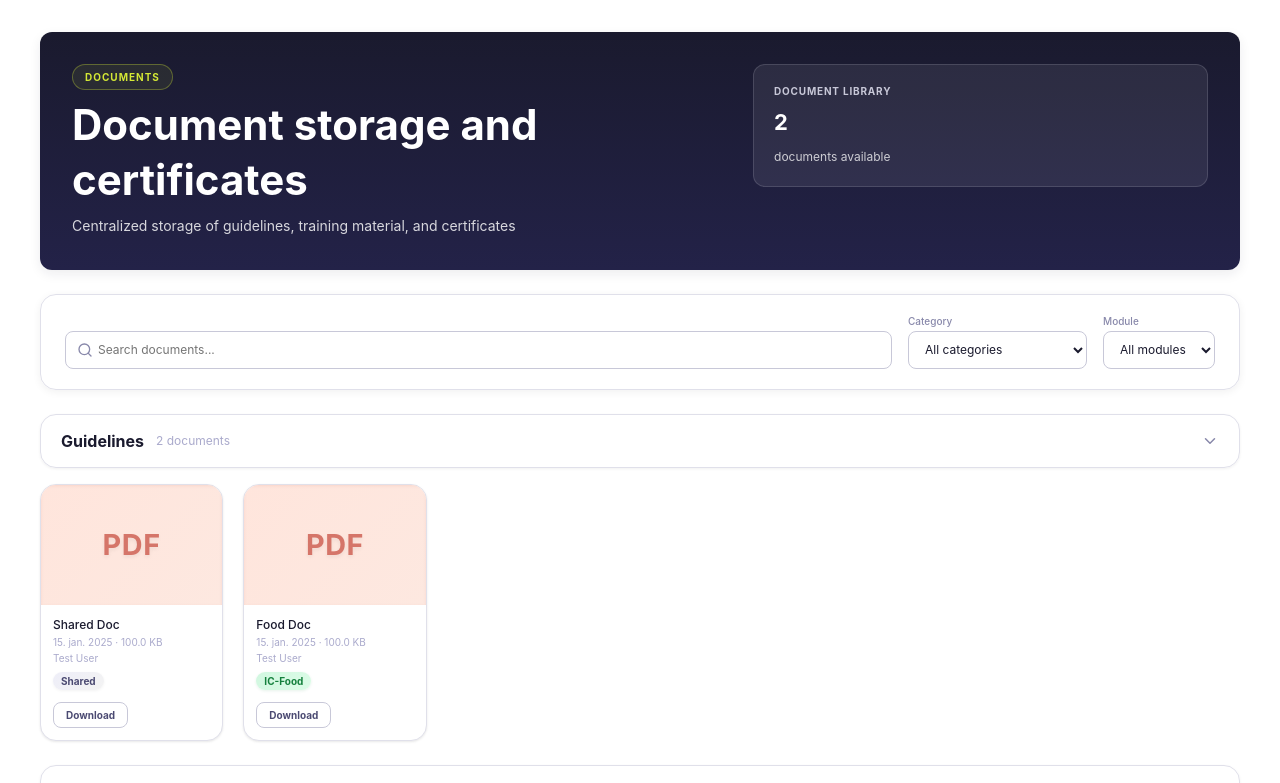
DocumentsView › filtering › filters documents by module select
This screenshot has width=1280, height=783.
Select "IC-Food" in the dropdown with id "filter-module". click: [1159, 350]
box: [1103, 331, 1215, 369]
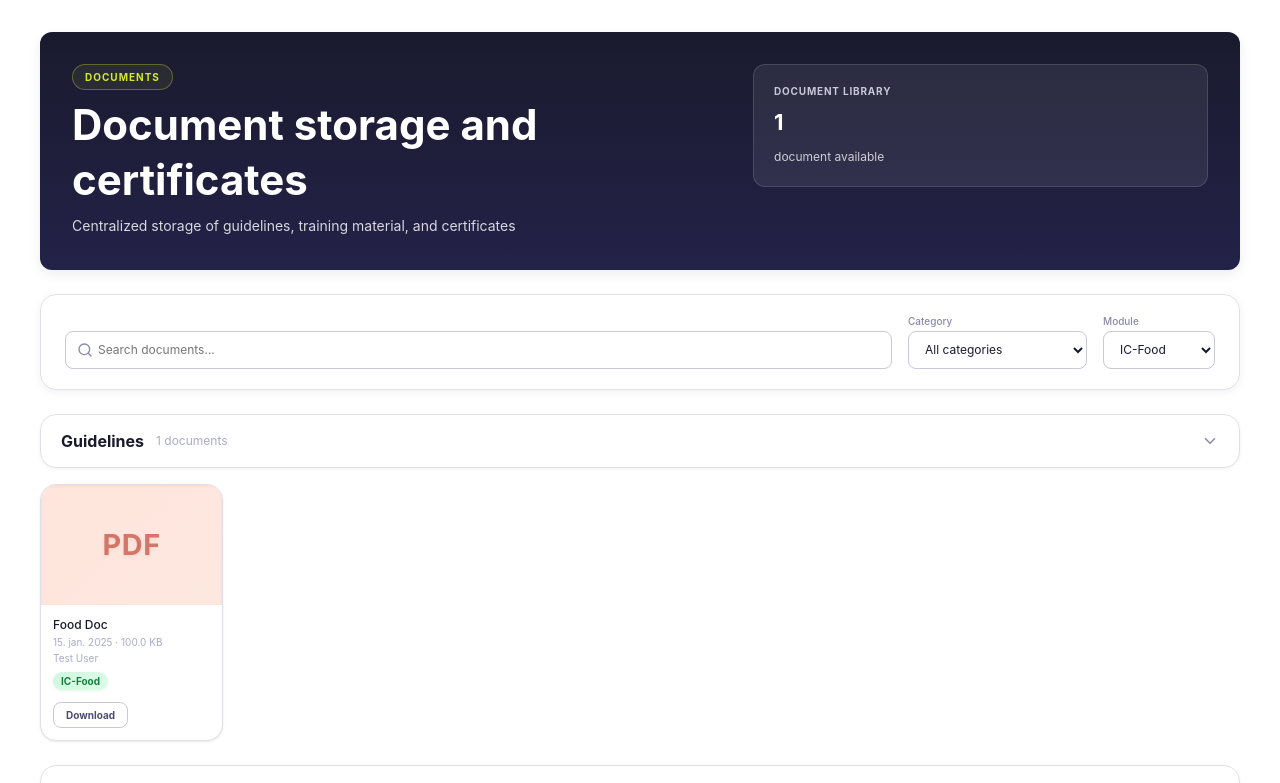
Expected: the text "Food Doc" is shown, [53, 617, 108, 632]
Now the text "Shared Doc" is gone
